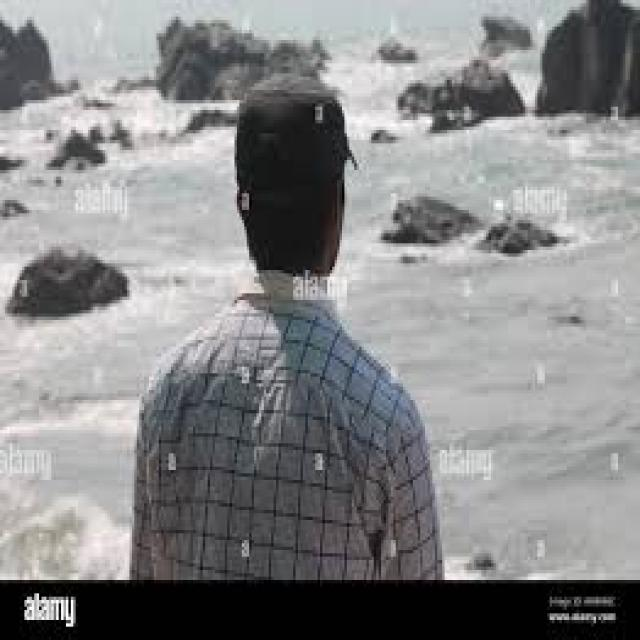cap: (235, 73, 359, 287)
